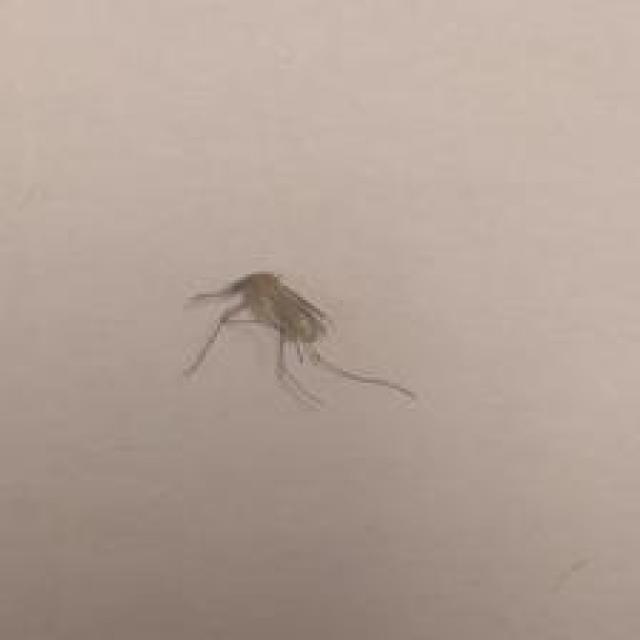Culex: (180, 270, 417, 413)
